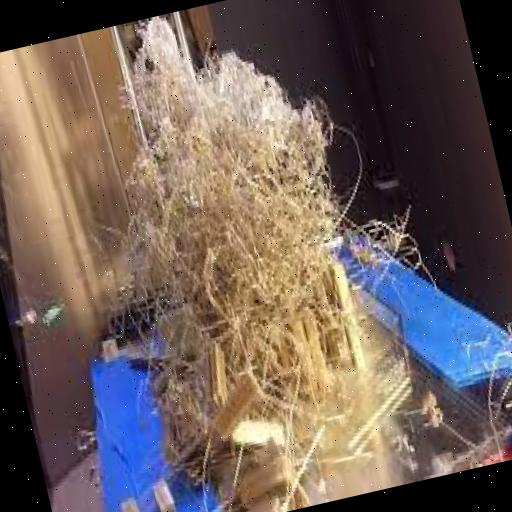spaghetti: (42, 8, 416, 452)
